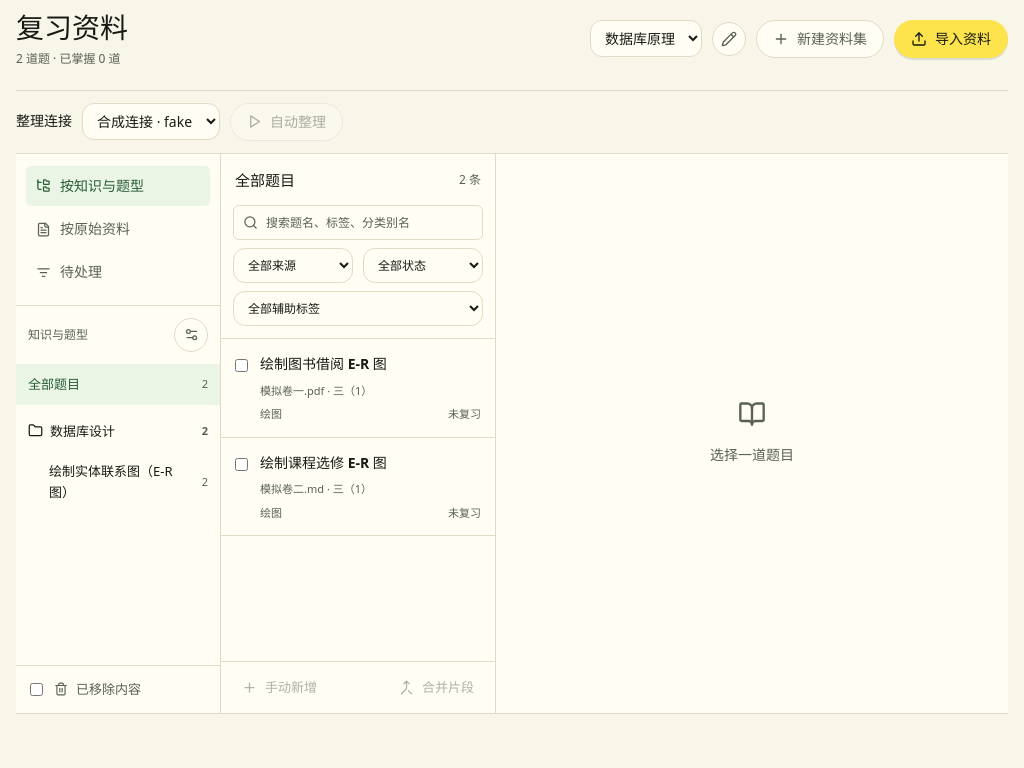
Test: aggregates papers under the human-readable category without invoking a model or changing study state
Click the button "绘制实体联系图（E-R 图） 2".
click(118, 482)  # box [16, 451, 220, 513]
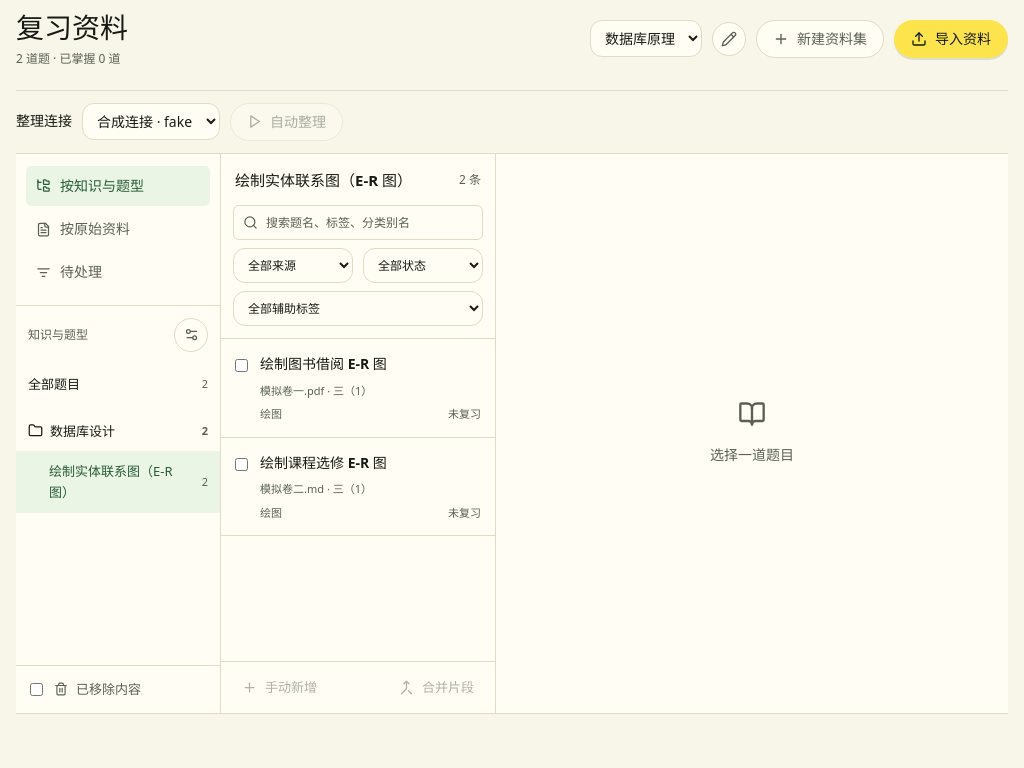
Expected: the text "模拟卷一.pdf" is shown, [260, 383, 324, 398]
Expected: the text "模拟卷二.md" is shown, [260, 481, 324, 496]
Click the button "绘制图书借阅 E-R 图 模拟卷一.pdf · 三（1） 绘图 未复习".
click(370, 388)  # box [256, 353, 485, 423]
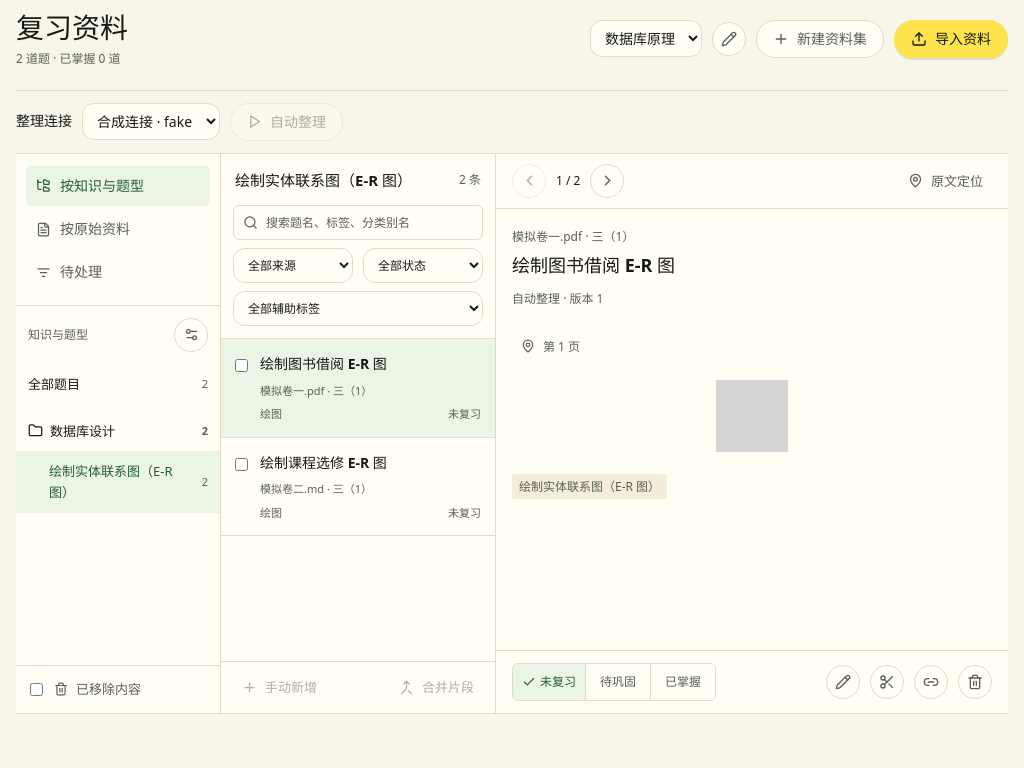
Expected: the text "自动整理" is shown, [230, 103, 343, 141]
Expected: the element showing "模拟卷一.pdf · 三（1） 绘制图书借阅 E-R 图 自动整理 · 版本 1" is shown, [512, 228, 675, 307]
